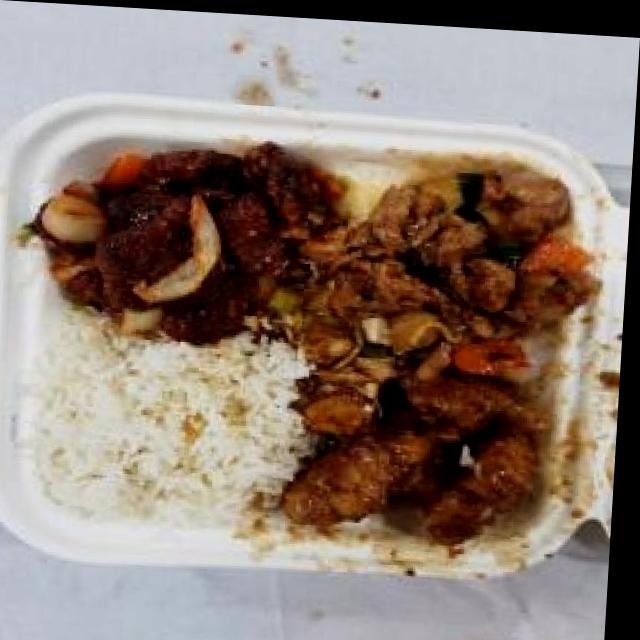Beijing Beef: (28, 122, 337, 336)
Kung Pao Chicken: (298, 142, 602, 383)
The Original Orange Chicken: (294, 353, 572, 545)
White Steamed Rice: (29, 322, 308, 533)
